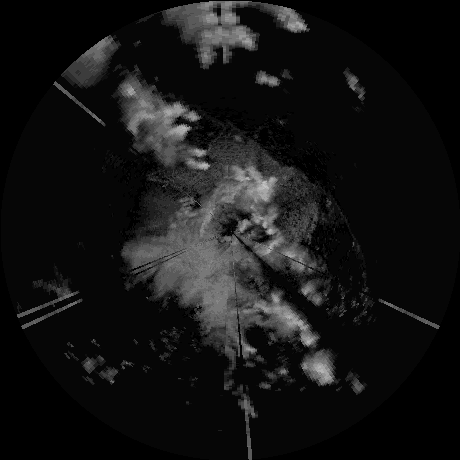frontgust: (321, 188, 371, 293)
